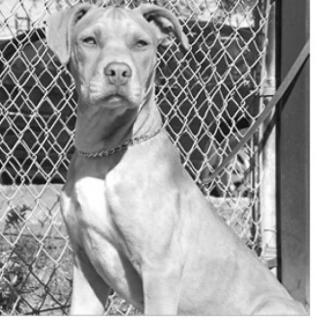dog: (40, 3, 193, 113)
nose: (100, 59, 137, 90)
